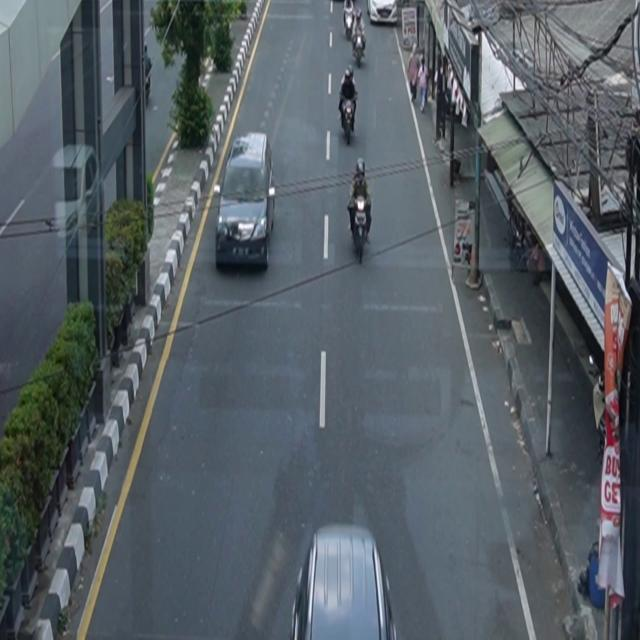car: (291, 524, 398, 640), (216, 132, 277, 271)
